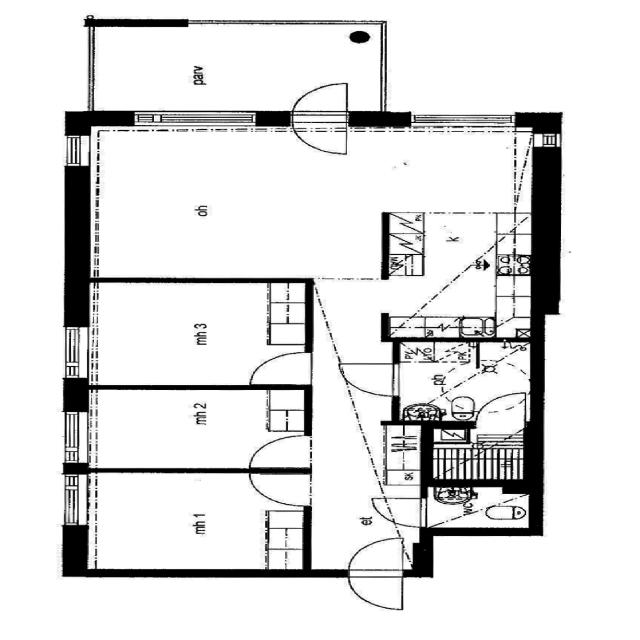door: (342, 532, 408, 612), (244, 470, 315, 509), (246, 348, 316, 386), (288, 79, 354, 118), (338, 362, 406, 398), (369, 493, 433, 530), (291, 122, 350, 156), (474, 391, 530, 418)
window: (127, 108, 263, 133), (404, 111, 520, 134), (58, 408, 92, 464), (59, 324, 92, 378), (57, 476, 90, 530), (60, 134, 93, 170)
zone: (92, 129, 529, 278), (83, 282, 307, 388), (82, 471, 308, 574), (81, 388, 309, 471), (386, 211, 530, 340), (391, 340, 534, 420), (426, 420, 528, 482), (420, 484, 534, 532), (244, 470, 315, 508), (245, 349, 315, 386), (242, 435, 313, 468)
